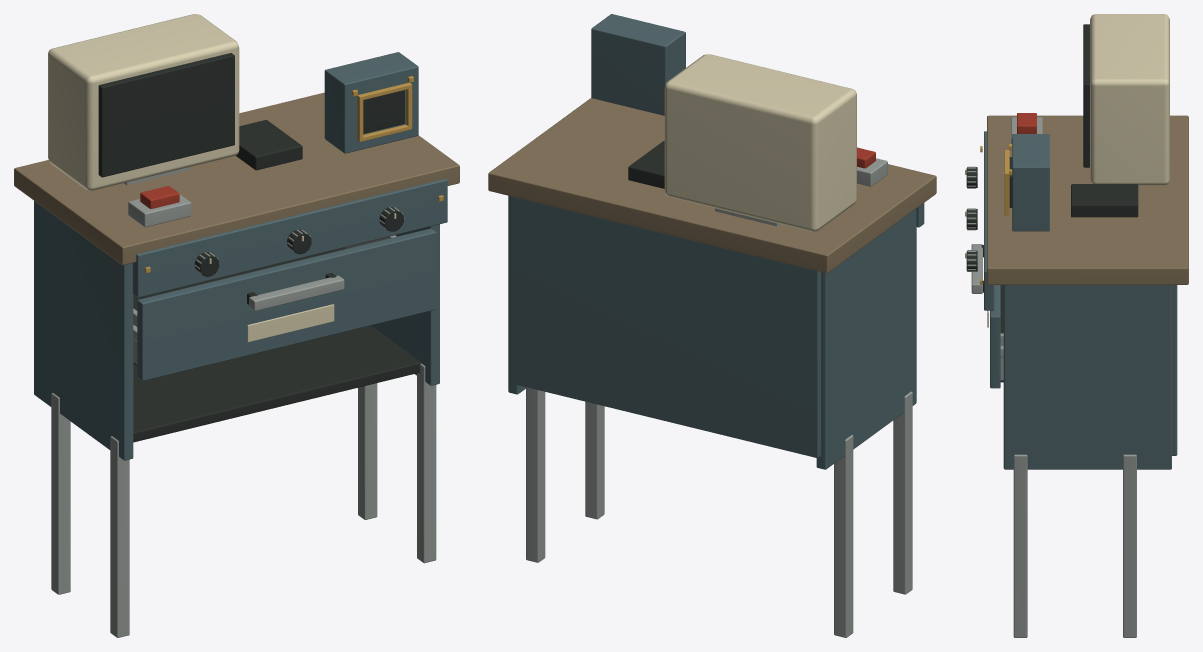
Rendered from service-station.glb.
3 views of the same model, side by side, from view 1: azimuth 30°, elevation 25°; view 2: azimuth 150°, elevation 25°; view 3: azimuth 270°, elevation 25° (orthographic). The views are drawn at different scales.
Parts seen in each view (by area): view 1: Worktop, DrawerFront, CabinetSide, LowerShelf, TerminalBody, TerminalBezel, CalibrationApron, SocketHousing, FrontLeg, Leg, FrontLeg.001, CabinetSide.001 (+8 smaller); view 2: CabinetBack, TerminalBody, Worktop, CabinetSide, SocketHousing, Leg, FrontLeg, Leg.001, FrontLeg.001, ProbeCradle, CabinetSide.001; view 3: CabinetSide.001, Worktop, TerminalBody, SocketHousing, FrontLeg.001, Leg.001, ProbeCradle, DrawerFront, CabinetBack, TerminalBezel, CalibrationApron, DrawerHandle (+1 smaller).
Part boxes in pixels (<box>): Worktop: <box>14,92,459,265</box>; DrawerFront: <box>137,228,436,380</box>; CabinetSide: <box>34,201,133,460</box>; LowerShelf: <box>133,325,421,442</box>; TerminalBody: <box>48,14,239,190</box>; TerminalBezel: <box>98,53,234,177</box>; CalibrationApron: <box>132,178,447,297</box>; SocketHousing: <box>324,52,418,153</box>; FrontLeg: <box>110,436,129,637</box>; Leg: <box>51,393,70,594</box>; FrontLeg.001: <box>417,363,436,563</box>; CabinetSide.001: <box>371,224,439,385</box>; CabinetBack: <box>510,196,820,457</box>; TerminalBody: <box>664,54,856,231</box>; Worktop: <box>488,97,936,273</box>; CabinetSide: <box>816,208,916,469</box>; SocketHousing: <box>591,14,685,115</box>; Leg: <box>834,435,853,637</box>; FrontLeg: <box>893,391,912,594</box>; Leg.001: <box>526,387,545,562</box>; FrontLeg.001: <box>585,401,604,519</box>; ProbeCradle: <box>628,140,664,188</box>; CabinetSide.001: <box>508,195,526,394</box>; CabinetSide.001: <box>1003,285,1171,469</box>; Worktop: <box>987,115,1188,284</box>; TerminalBody: <box>1090,14,1169,185</box>; SocketHousing: <box>1012,134,1049,231</box>; FrontLeg.001: <box>1013,454,1027,637</box>; Leg.001: <box>1123,454,1136,637</box>; ProbeCradle: <box>1071,184,1138,217</box>; DrawerFront: <box>990,285,1000,388</box>; CabinetBack: <box>1172,285,1177,455</box>; TerminalBezel: <box>1083,24,1089,167</box>; CalibrationApron: <box>984,131,994,310</box>; DrawerHandle: <box>971,244,982,293</box>.
Bounding box in the file's own units: 0.86 × 1.28 × 0.532.
